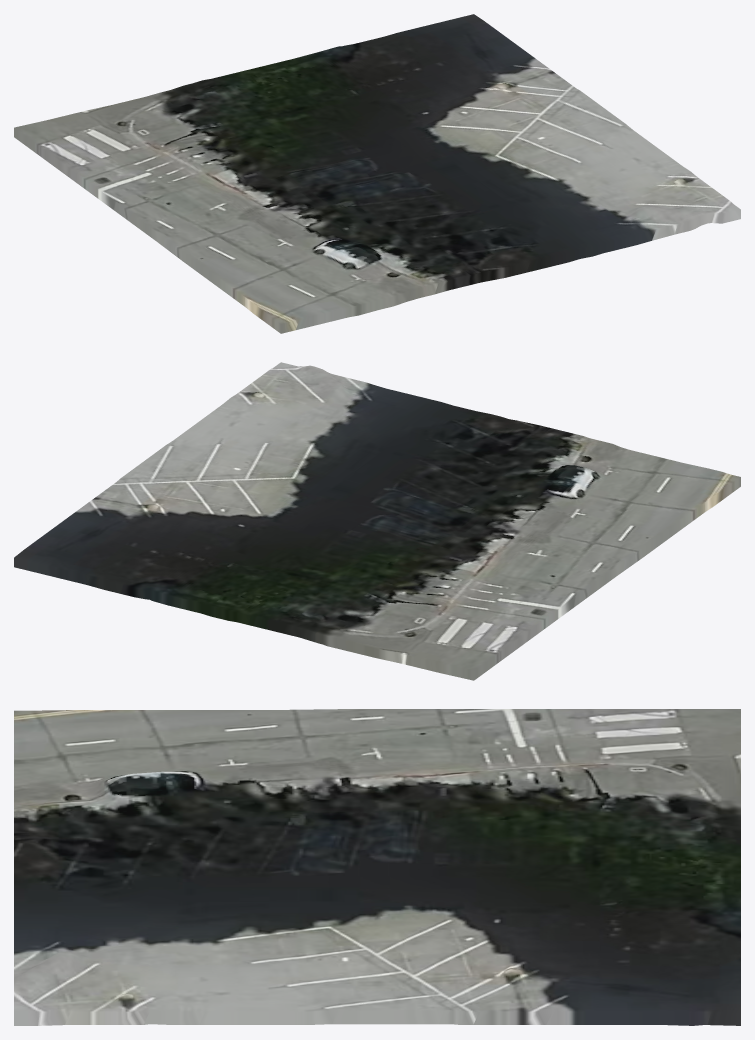
Rendered from z20-167776-405207-h0-yup-uvflip-v3-world.glb.
The picture shows the model from 3 angles, top to bottom: view 1: azimuth 30°, elevation 25°; view 2: azimuth 150°, elevation 25°; view 3: azimuth 270°, elevation 25°; orthographic projection. The views are drawn at different scales.
Size of the model in its own units: 30.16 by 1.2 by 30.32.
1 material, 1 textured.
